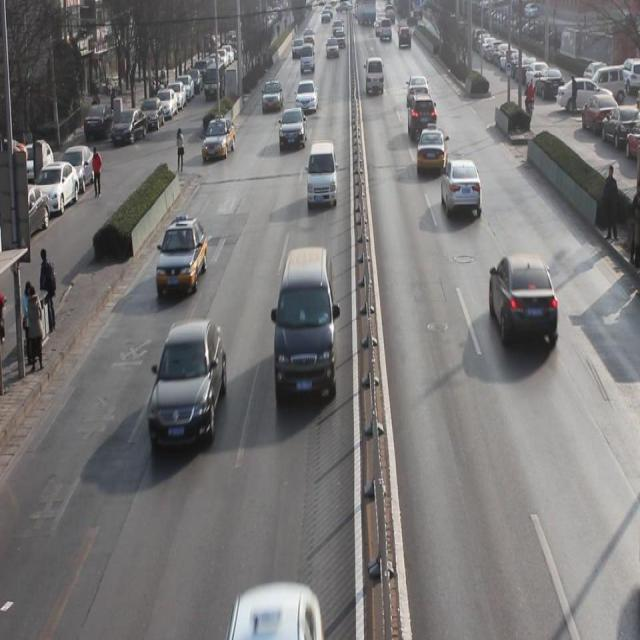car: (148, 316, 228, 450), (490, 249, 560, 354), (158, 217, 208, 296), (442, 158, 484, 218), (201, 116, 236, 160), (416, 122, 445, 174), (408, 92, 437, 141), (279, 105, 308, 153), (295, 79, 318, 114), (406, 72, 428, 106), (262, 78, 283, 113)
truck: (272, 248, 338, 405), (307, 144, 338, 210), (364, 54, 385, 97), (300, 39, 315, 75)
